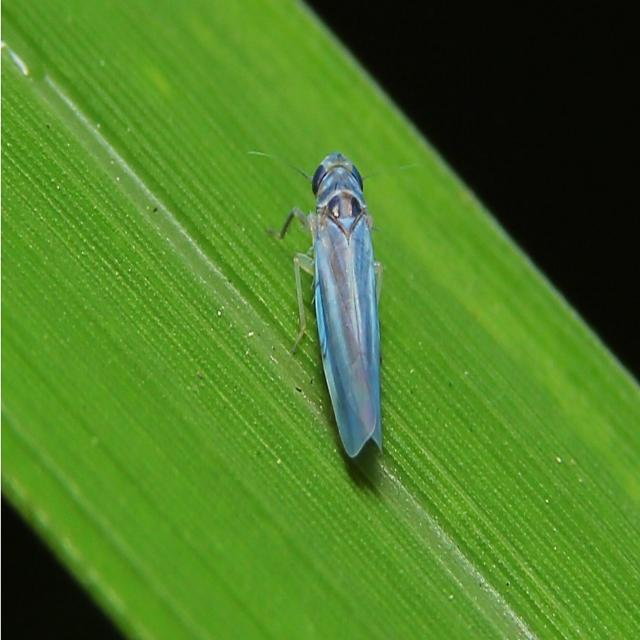Yechan: (288, 144, 393, 463)
